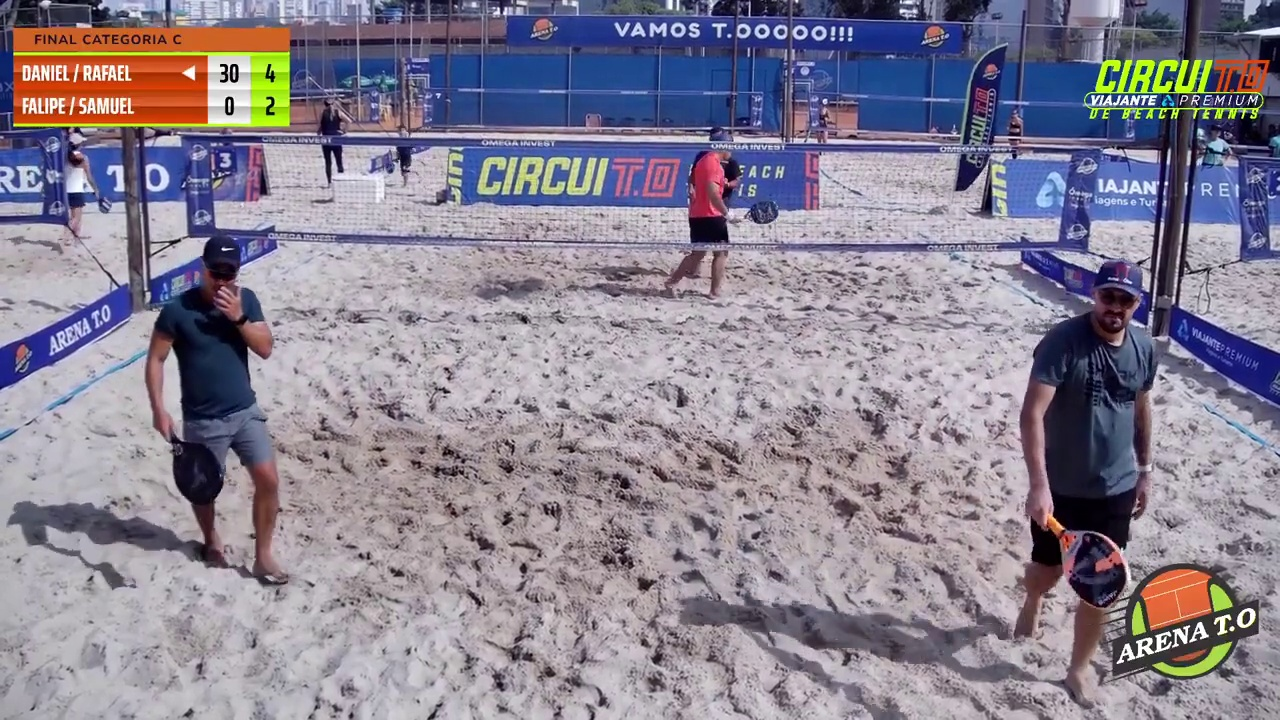court_line: (646, 0, 793, 466)
